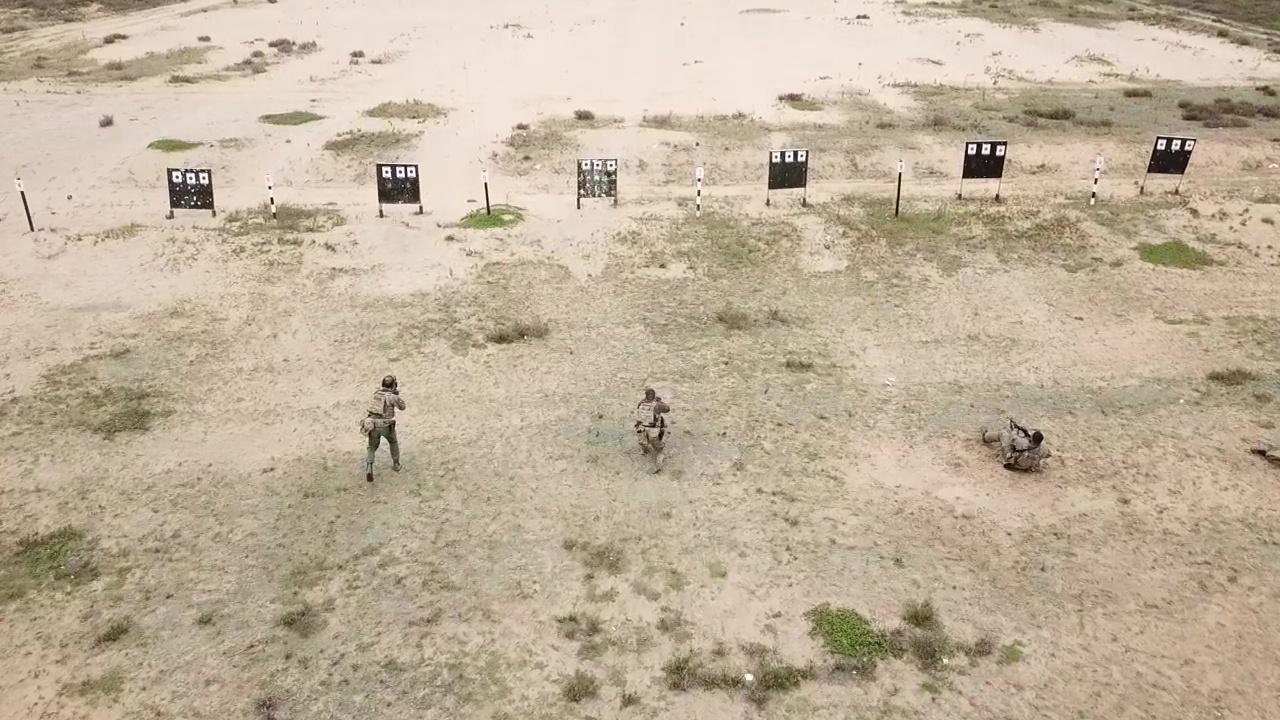Soldier: (358, 372, 410, 486), (979, 413, 1054, 478), (633, 385, 676, 476)
